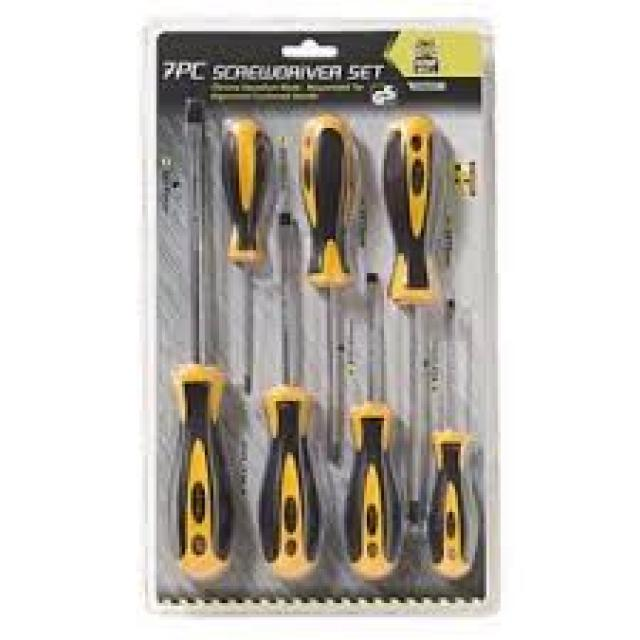screw driver: (151, 87, 244, 584), (261, 205, 330, 588), (345, 259, 411, 585), (421, 278, 486, 590)
